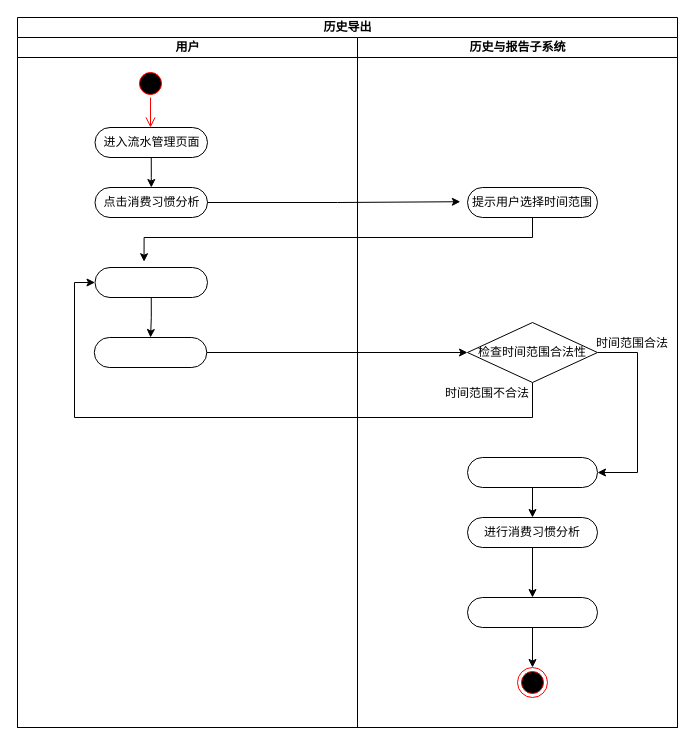
The diagram is 695 pixels wide and 745 high, and some of its shapes have lost their labels. The centre of each missing label's shape, as x and y in pixels:
显示分析结果与建议: [532,612]
点击按钮提交: [150,352]
筛选流水信息: [532,472]
输入时间范围: [151,282]
